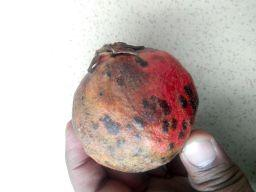pomegranate: (71, 42, 199, 173)
